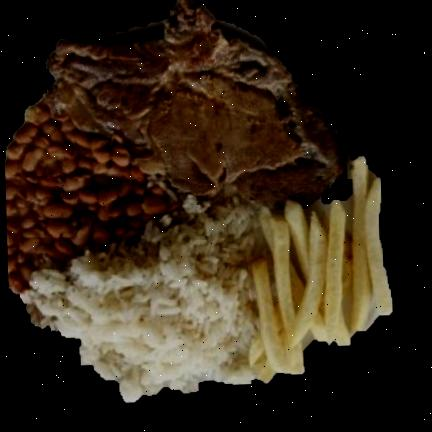beans: (5, 101, 177, 293)
meat: (46, 0, 346, 207)
potato: (249, 158, 392, 382)
rice: (22, 197, 265, 403)
